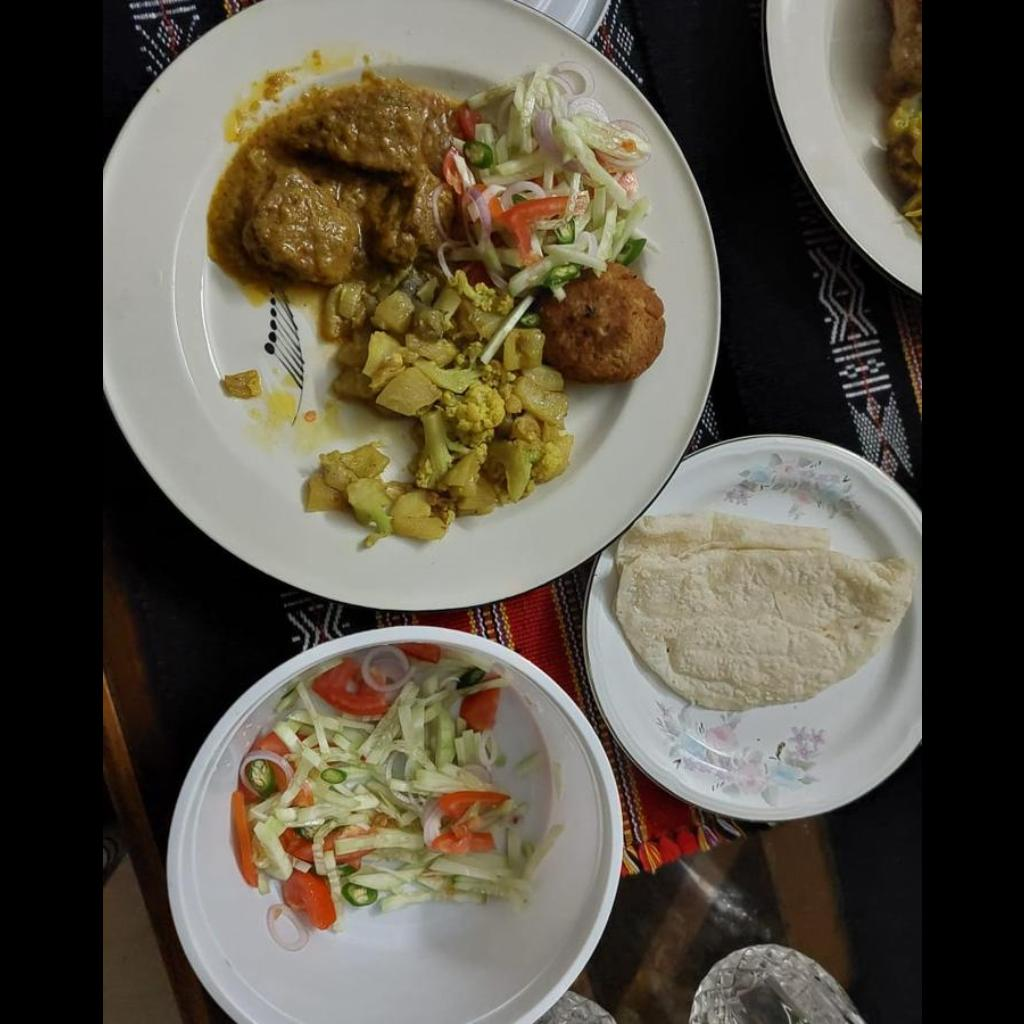beef: (249, 81, 451, 282)
kabab: (544, 271, 660, 372)
ruti: (612, 516, 907, 717)
salad: (228, 651, 566, 933), (451, 71, 638, 286)
vaji: (302, 284, 574, 535)
